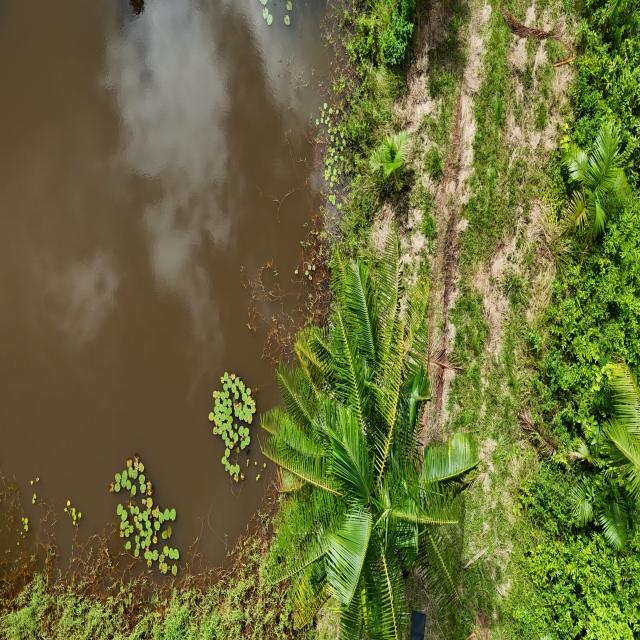vegetation: (256, 228, 482, 638)
